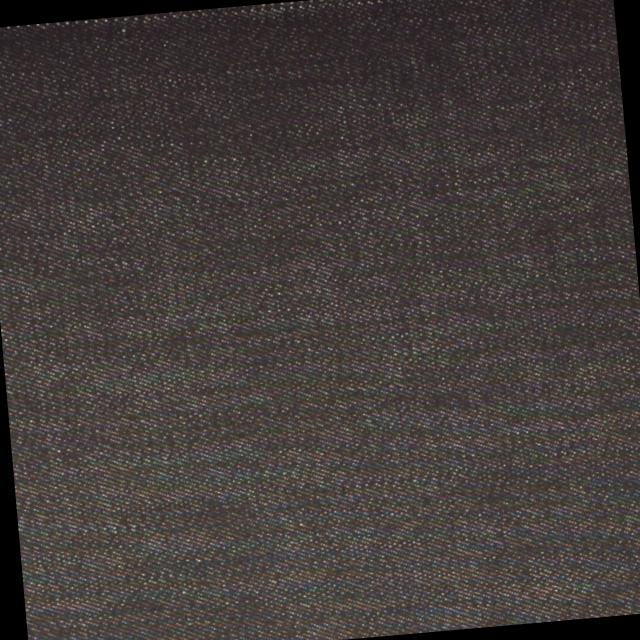Warp_Weft: (0, 0, 612, 46)
